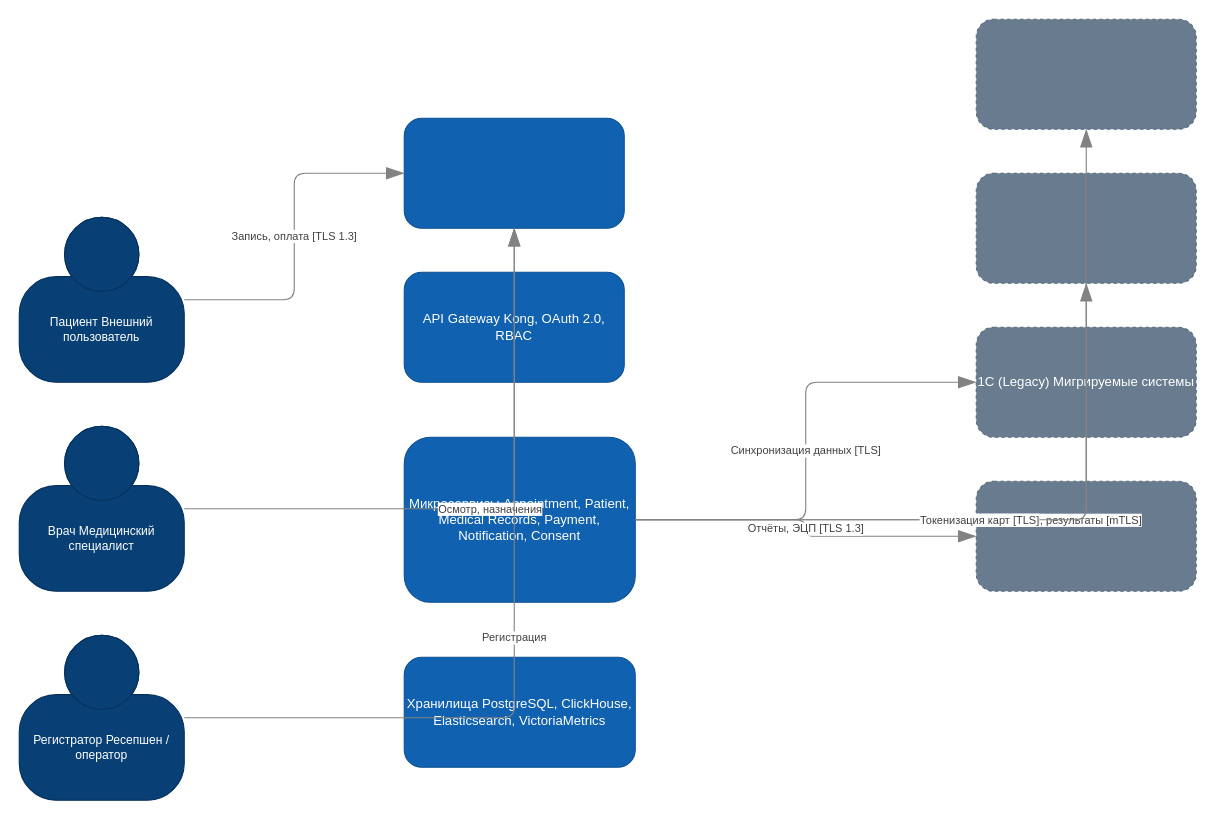
This 1216x820 diagram has some shape labels left out. Each missing label, with the centre of its shape:
Банк-эквайер Платёжный шлюз: the point at 1085,227
Лаборатория Внешний API лаборатории: the point at 1085,73
Порталы Patient / Reception / Doctor Portal: the point at 513,172
ФНС Отчётность, ЭЦП: the point at 1085,535
